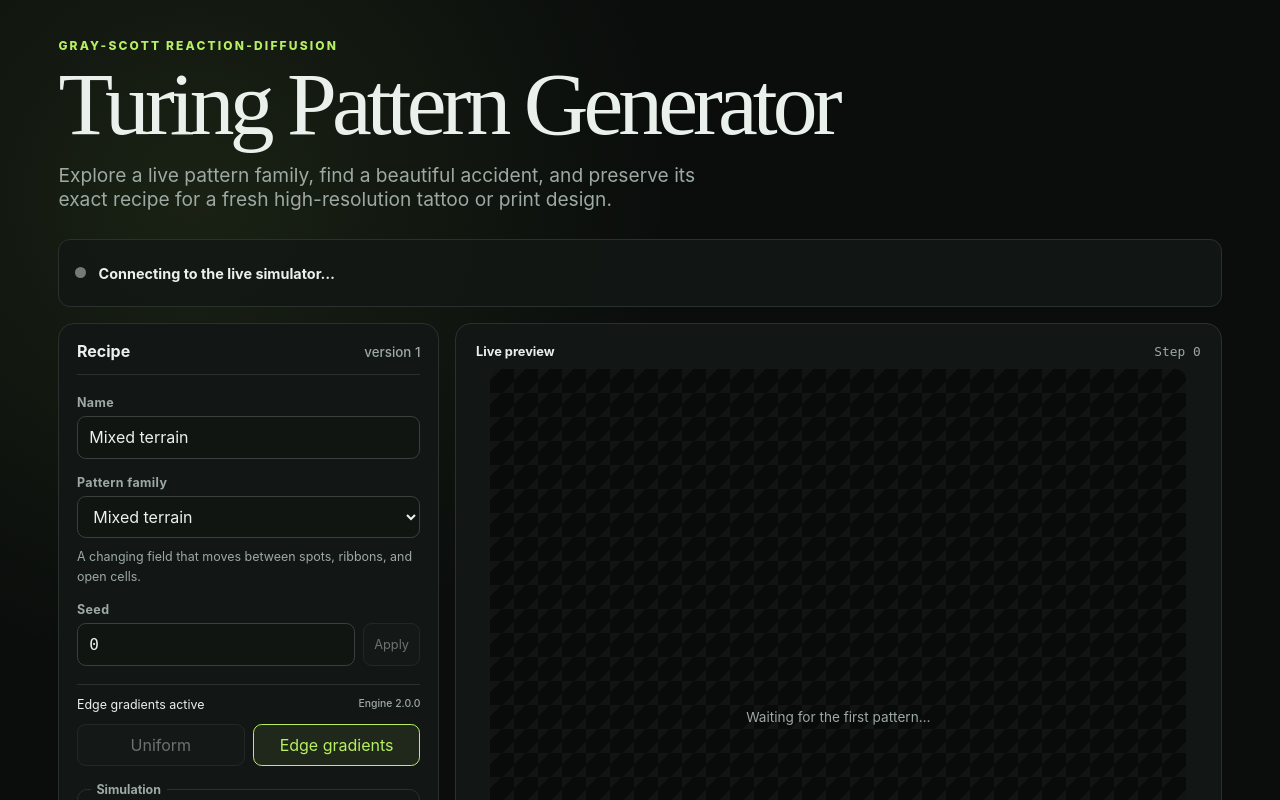
live controls › applies a preset as controls followed by a deterministic reset
The width and height of the screenshot is (1280, 800).
Select "Branching coral" in the dropdown labelled "Pattern family" at (249, 517), box [77, 496, 420, 538]
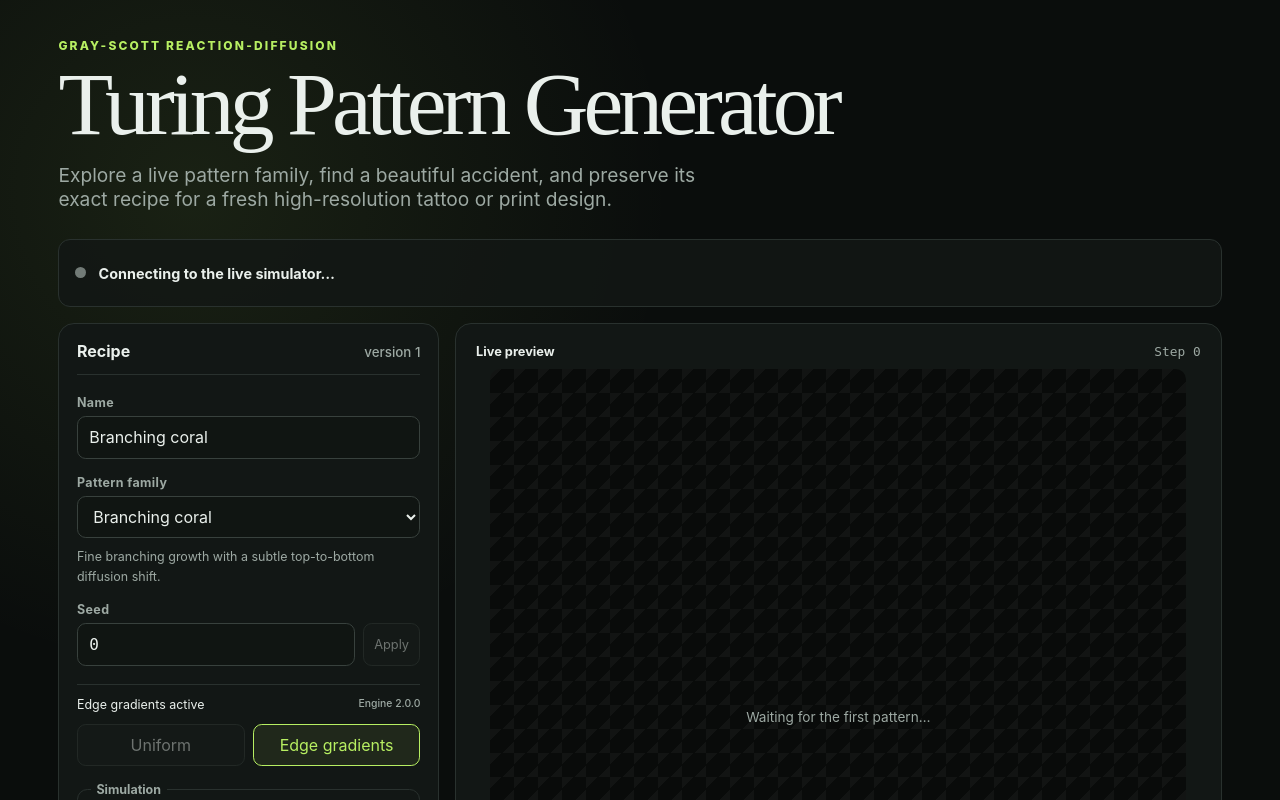
Check: the field labelled "Name" holds "Branching coral", box [77, 416, 420, 459]
